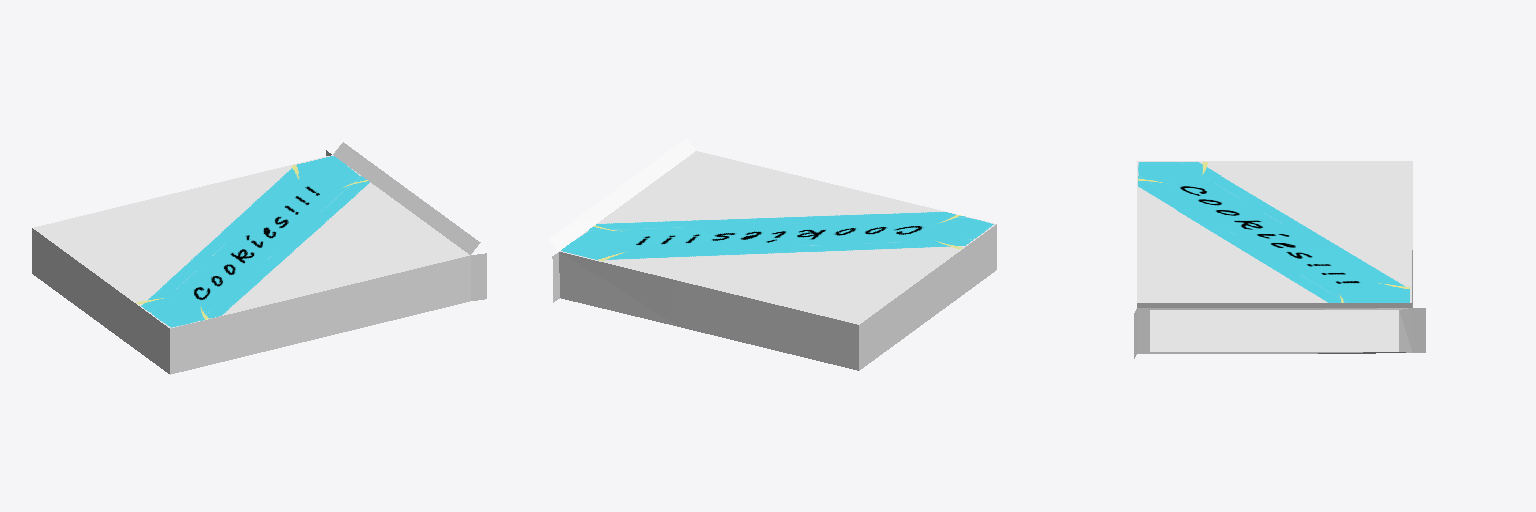
3 renders of one model, left to right at view 1: azimuth 30°, elevation 25°; view 2: azimuth 150°, elevation 25°; view 3: azimuth 270°, elevation 25°, orthographic.
Parts seen in each view (by area): view 1: Cube_Cube.002; view 2: Cube_Cube.002; view 3: Cube_Cube.002.
Boxes of the visible parts, x1=… form: Cube_Cube.002: x1=32, y1=142, x2=486, y2=374; Cube_Cube.002: x1=549, y1=139, x2=996, y2=370; Cube_Cube.002: x1=1134, y1=161, x2=1425, y2=358.
Bounding box in the file's own units: 5.94 × 1.02 × 4.78.
Materials: 2 (1 with a texture image).